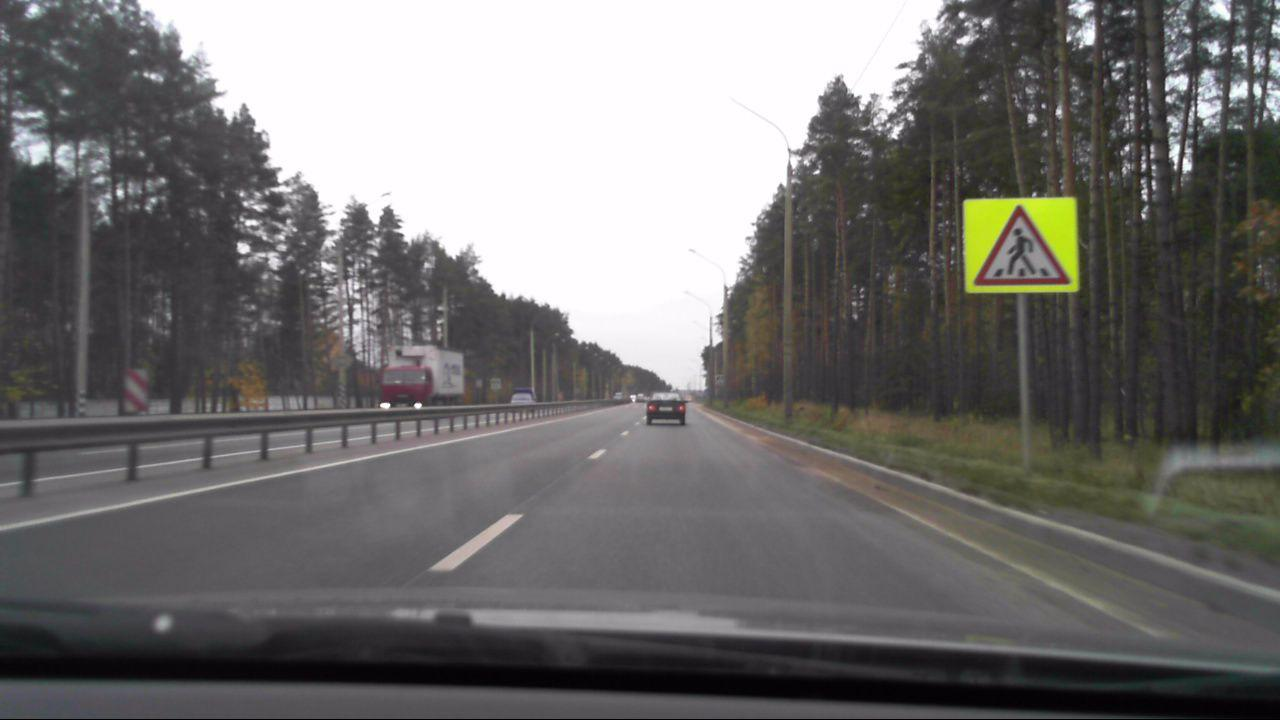1_22: (975, 205, 1071, 286)
8_22_1: (121, 361, 151, 411)
